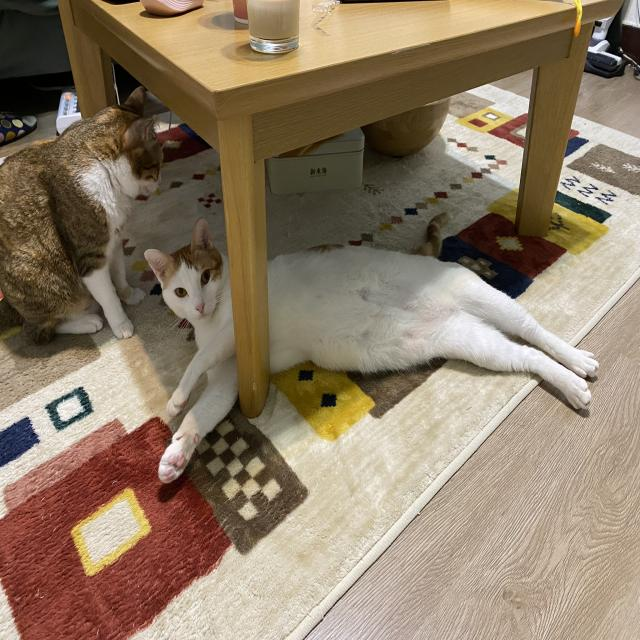cat1: (146, 213, 602, 483)
cat2: (0, 80, 163, 343)
